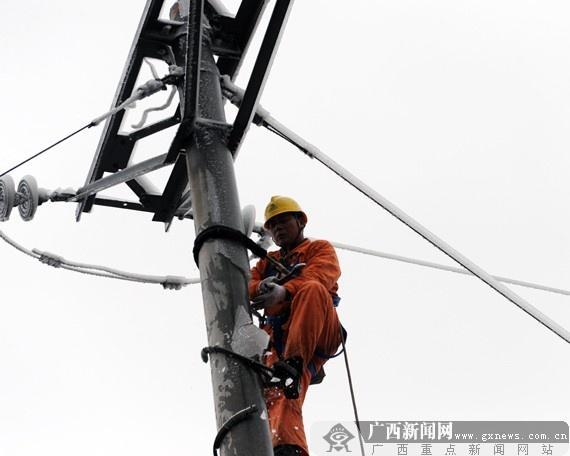helmet: (261, 198, 308, 224)
no-vest: (254, 246, 343, 332)
person: (243, 192, 348, 453)
